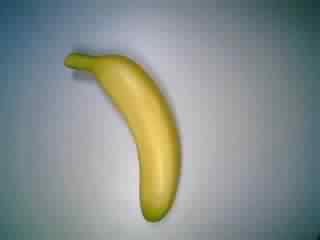banana: (57, 47, 187, 225)
